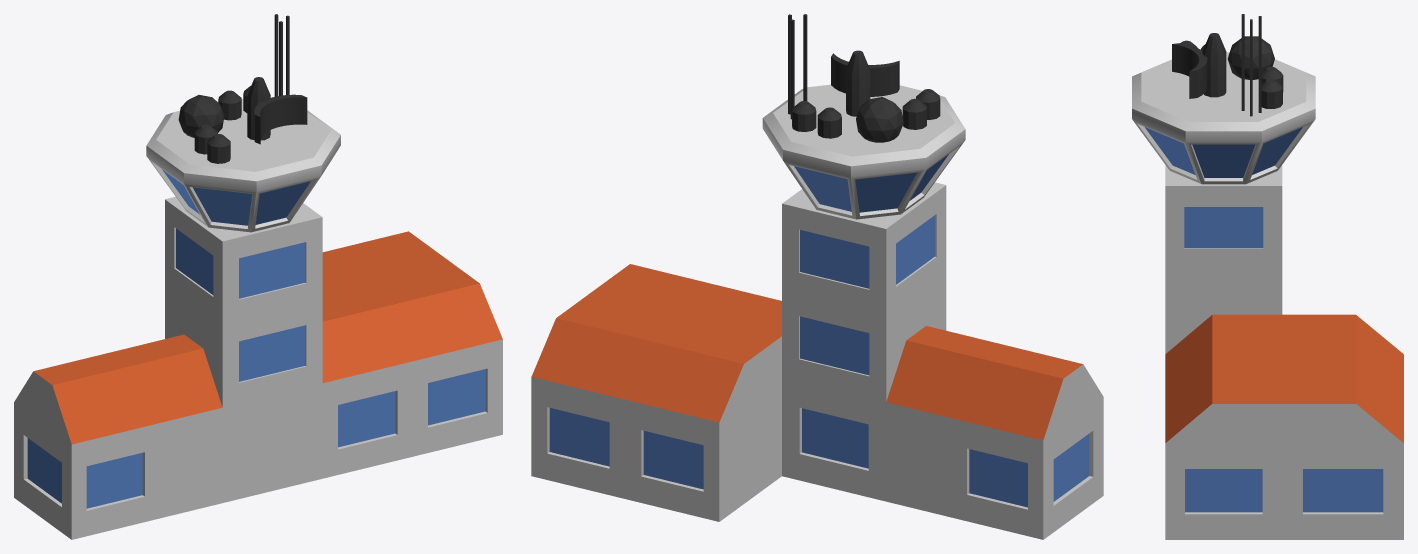
The model's file is AirTrafficControl.fbx.
The picture shows the model from 3 angles, left to right: view 1: azimuth 30°, elevation 25°; view 2: azimuth 150°, elevation 25°; view 3: azimuth 270°, elevation 25°; orthographic projection. The views are drawn at different scales.
Parts seen in each view (by area): view 1: Cube; view 2: Cube; view 3: Cube.
Boxes of the visible parts, x1,y1,x2,y2 form: Cube: [14, 14, 502, 539]; Cube: [531, 14, 1103, 539]; Cube: [1132, 14, 1403, 539].
Bounding box in the file's own units: 862 × 821 × 465.
